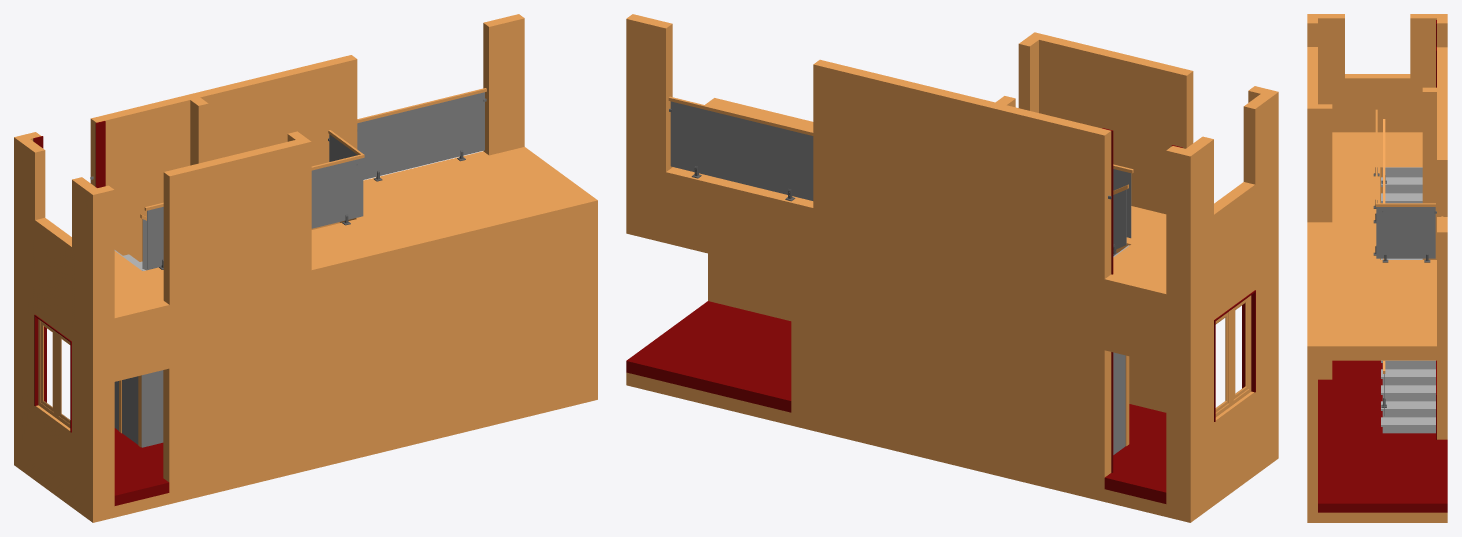
Rendered from лестница1маршевая.obj.
3 views of the same model, side by side, from view 1: azimuth 30°, elevation 25°; view 2: azimuth 150°, elevation 25°; view 3: azimuth 270°, elevation 25° (orthographic). The views are drawn at different scales.
Bounding box in the file's own units: 9.2 × 5.7 × 2.49.
